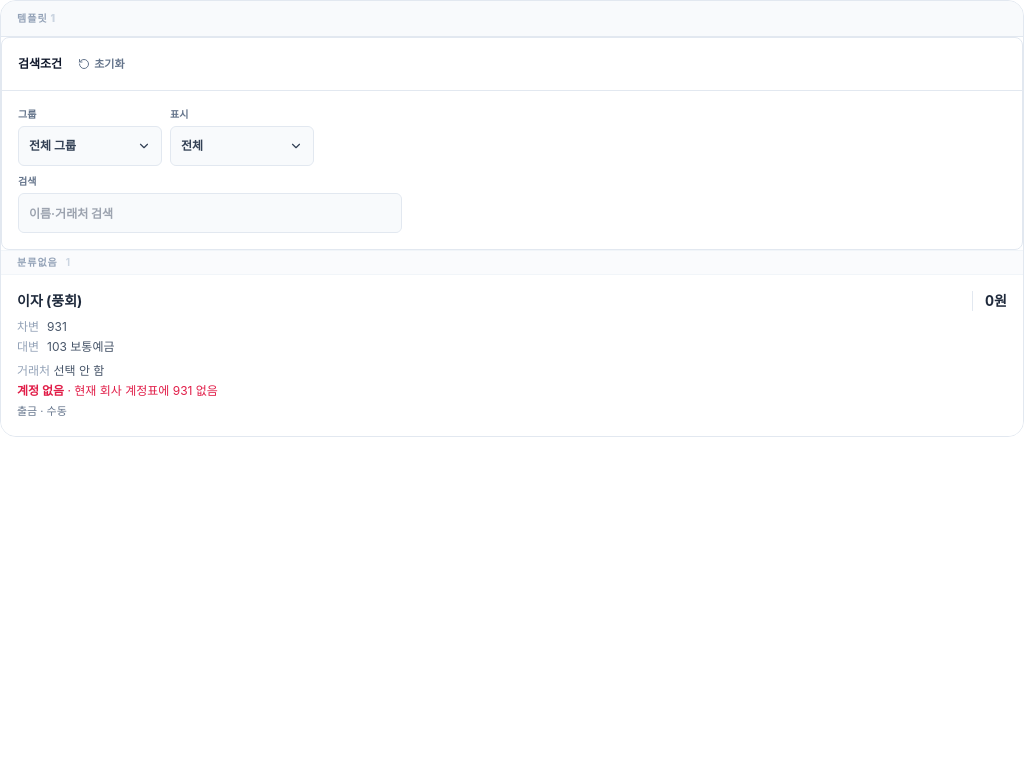
Test: 풍회 전표 템플릿의 계정 복구 › 수정창은 매입·매출·입금·출금·대체·회사이체 한 선택만 제공한다
This screenshot has width=1024, height=768.
What coordinates should you click on to do the following:
click the button with aria-label "이자 (풍회) 상세보기"
I would click on:
 (512, 355)
Its box is 1,275 -> 1023,436.
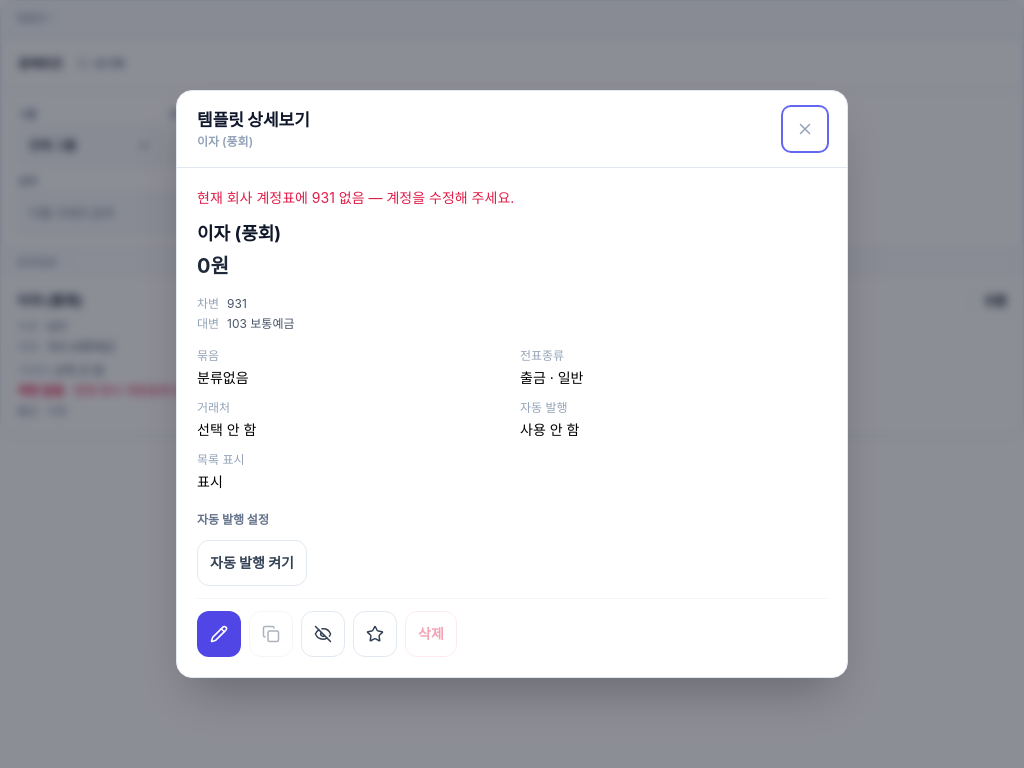
What coordinates should you click on to do the following:
click the button titled "이름·묶음·금액·발행 방식 수정"
I would click on:
 (219, 634)
Its box is 197,611 -> 241,657.
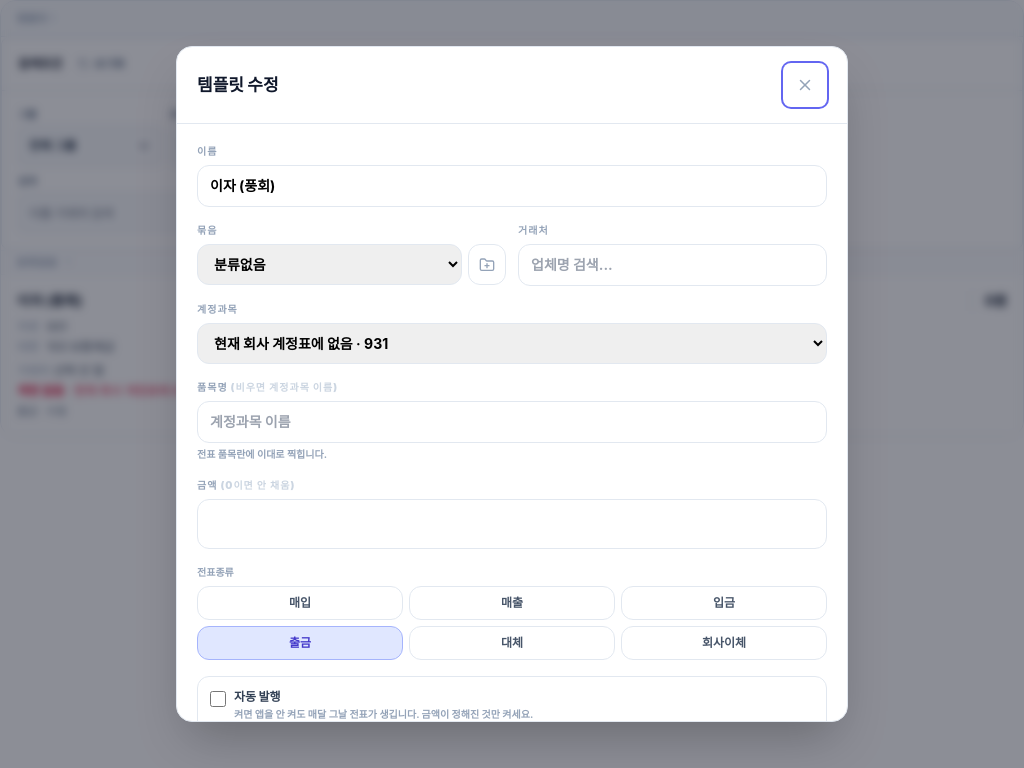
Now the element named "전표종류" is shown, box 197,586 -> 827,660
Now the buttons read "매입", "매출", "입금", "출금", "대체", "회사이체", in this order, box 197,586 -> 403,620; 409,586 -> 615,620; 621,586 -> 827,620; 197,626 -> 403,660; 409,626 -> 615,660; 621,626 -> 827,660
